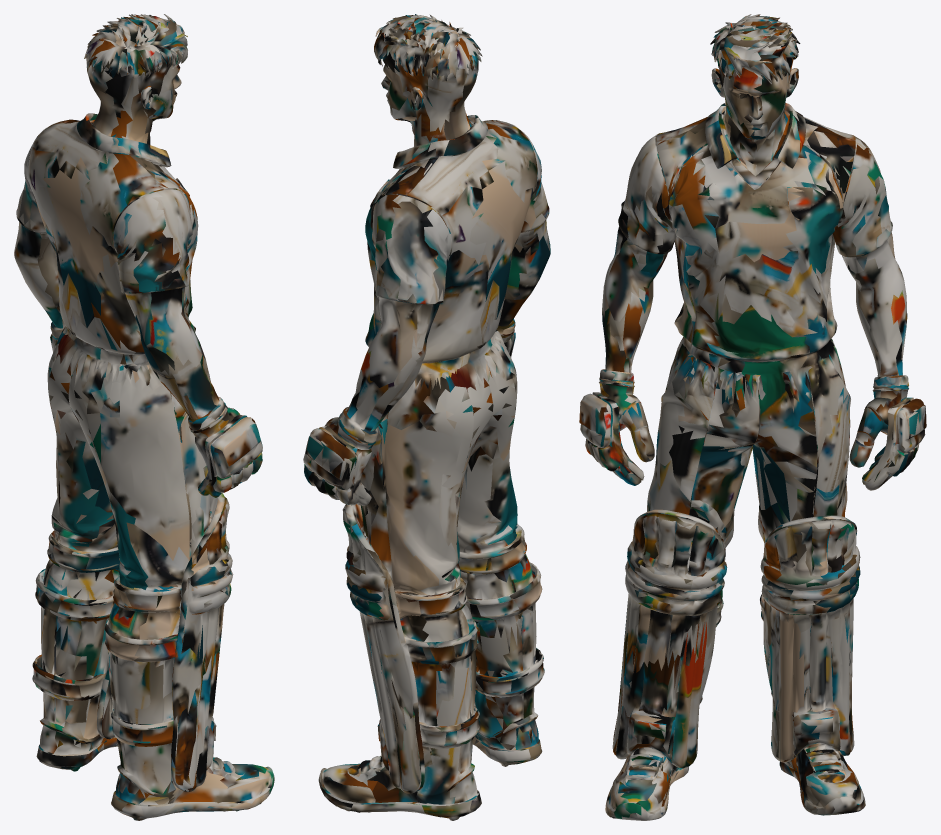
Rendered from SM_C26_Player_Fielder3.fbx.
3 views of the same model, side by side, from view 1: azimuth 30°, elevation 25°; view 2: azimuth 150°, elevation 25°; view 3: azimuth 270°, elevation 25° (orthographic). The views are drawn at different scales.
Visible parts, largest first — view 1: node_0; view 2: node_0; view 3: node_0.
Part boxes in pixels (x1,y1,x2,y2): node_0: (14,14,274,820); node_0: (303,14,550,820); node_0: (579,14,926,820).
Size of the model in its own units: 73.38 by 37.87 by 180.
